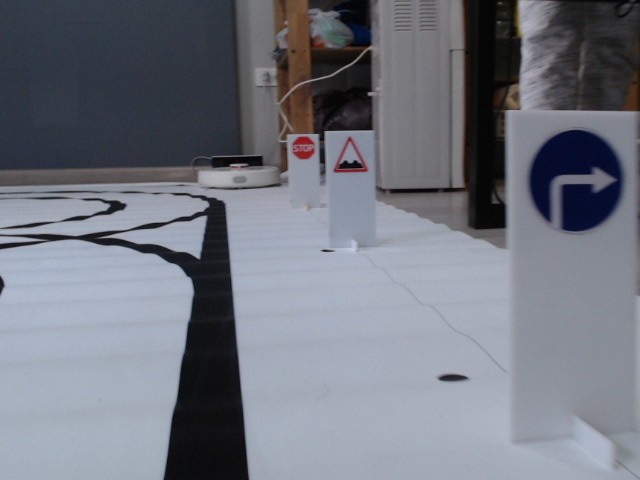Right: (530, 131, 624, 228)
